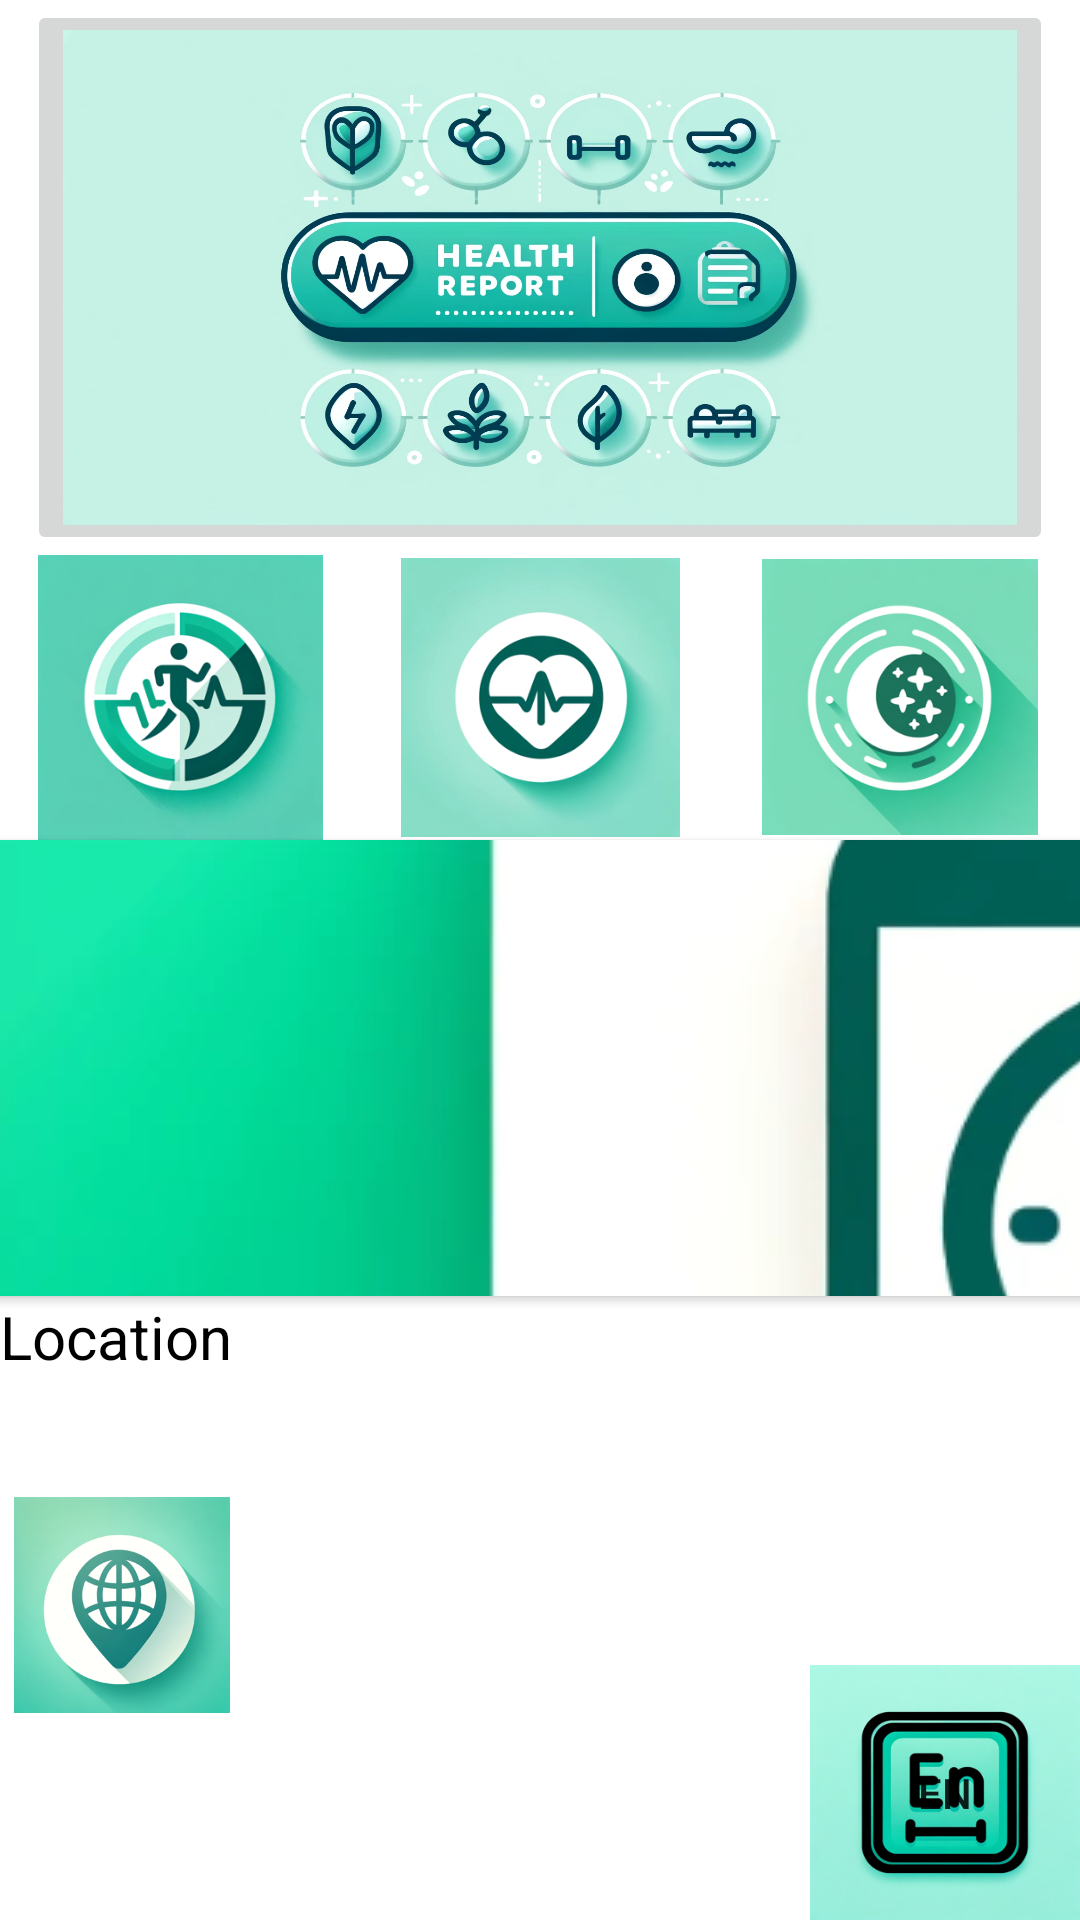

Icons on this 1080px x 1920px Android screen, each with its box as (x1, y1, x2, y2):
Heart rate monitor icon: (401, 558, 680, 837)
Sleep monitor icon: (762, 559, 1038, 835)
Steps tracker icon: (38, 555, 323, 840)
